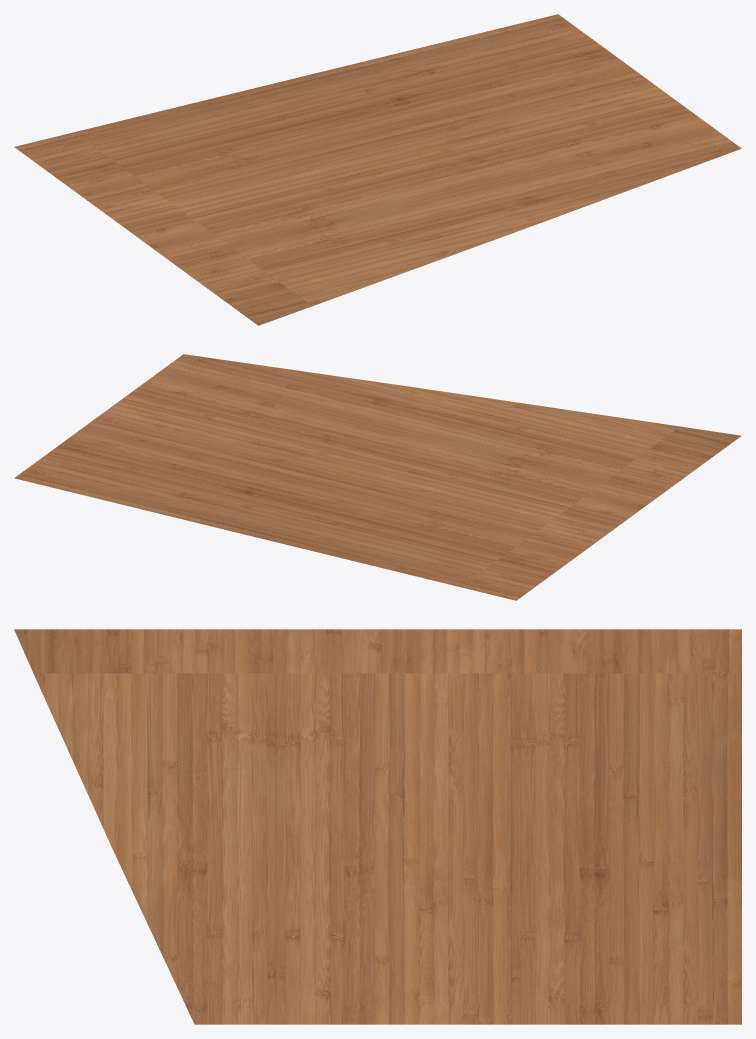
File: GYM_Floor_Wood_3.fbx
3 renders of one model, top to bottom at view 1: azimuth 30°, elevation 25°; view 2: azimuth 150°, elevation 25°; view 3: azimuth 270°, elevation 25°, orthographic. The views are drawn at different scales.
Parts seen in each view (by area): view 1: GYM_Wood_Floor_7; view 2: GYM_Wood_Floor_7; view 3: GYM_Wood_Floor_7.
Boxes of the visible parts, x1,y1,x2,y2 form: GYM_Wood_Floor_7: (14,14,741,325); GYM_Wood_Floor_7: (14,354,741,600); GYM_Wood_Floor_7: (14,629,741,1024).
Bounding box in the file's own units: 4.5 × 8.88e-16 × 3.5.
1 material, 1 textured.
